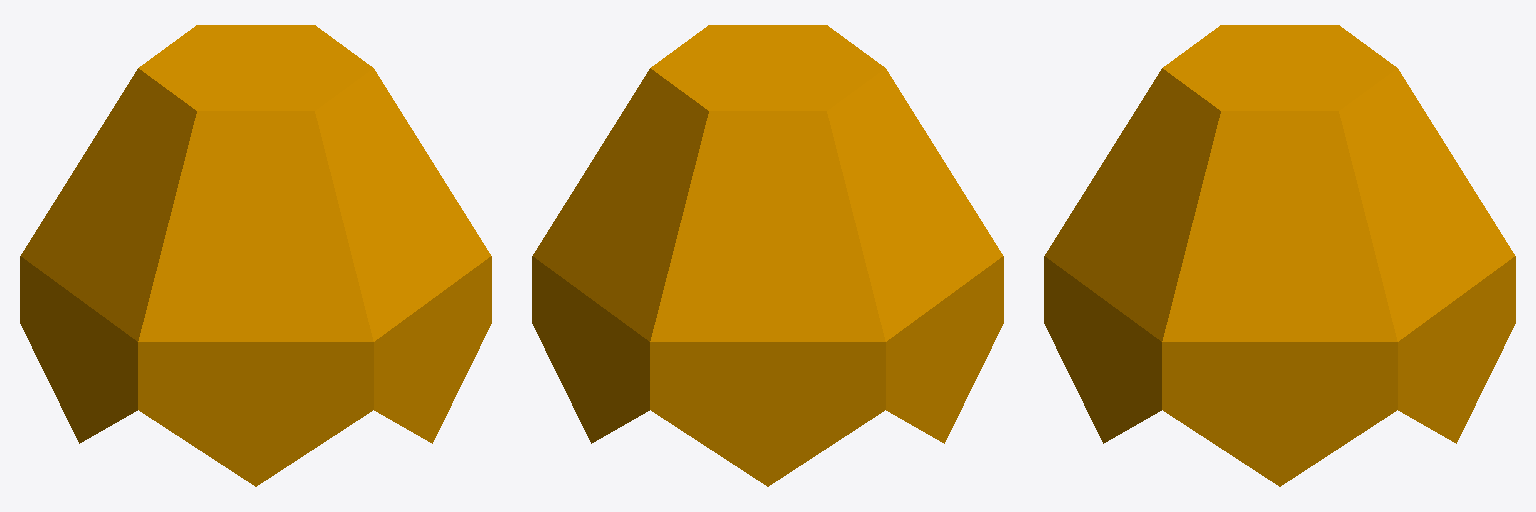
The robot description file, URDF, robot "eggshell_pointy_half":
<?xml version="1.0"?>
<robot name="eggshell_pointy_half">
  <link name="egg">
    <inertial>
        <origin rpy="0 0 0" xyz="0 0 0"/>
        <mass value="0.0025"/>
        <inertia ixx="1e-5" ixy="0" ixz="0" iyy="1e-5" iyz="0" izz="1e-5"/>
    </inertial>
    <visual>
      <origin rpy="0 0 0" xyz="0 0 0"/>
      <geometry>
        <mesh filename="eggshell_pointy_half_visual.obj"/>
      </geometry>
    </visual>
    <collision>
      <origin rpy="0 0 0" xyz="0 0 0"/>
      <geometry>
        <mesh filename="eggshell_pointy_half_collision.obj"/>
      </geometry>
    </collision>
  </link>
</robot>

--- What the picture shows (computed from the rendered views, not written in the file) ---
Views: 3 orthographic renders of the robot side by side, from view 1: azimuth 30°, elevation 25°; view 2: azimuth 150°, elevation 25°; view 3: azimuth 270°, elevation 25°.
Robot: eggshell_pointy_half — 1 links, 0 joints (none); root link egg; default pose: every joint at zero.
Visible links, largest first — view 1: egg; view 2: egg; view 3: egg.
Link boxes in pixels (<box>): egg: <box>20,25,491,486</box>; egg: <box>532,25,1003,486</box>; egg: <box>1044,25,1515,486</box>.
Bounding box of the posed robot: 0.1161 × 0.134 × 0.1045 m (x, y, z).
1 mesh visuals loaded from 1 distinct referenced files (1 OBJ).
